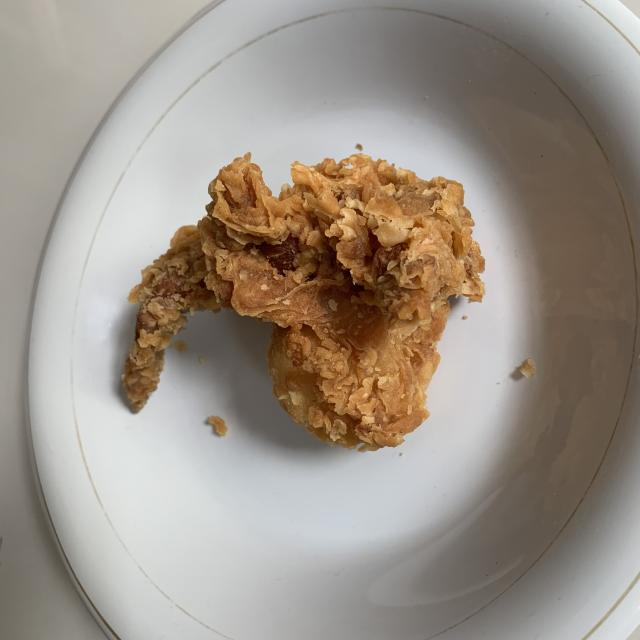Frango: (124, 155, 478, 452)
